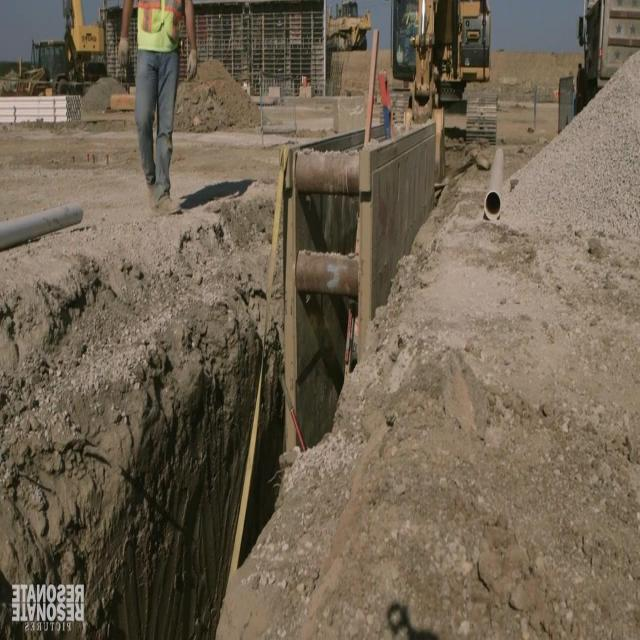Reflective-Jacket: (123, 0, 192, 60)
